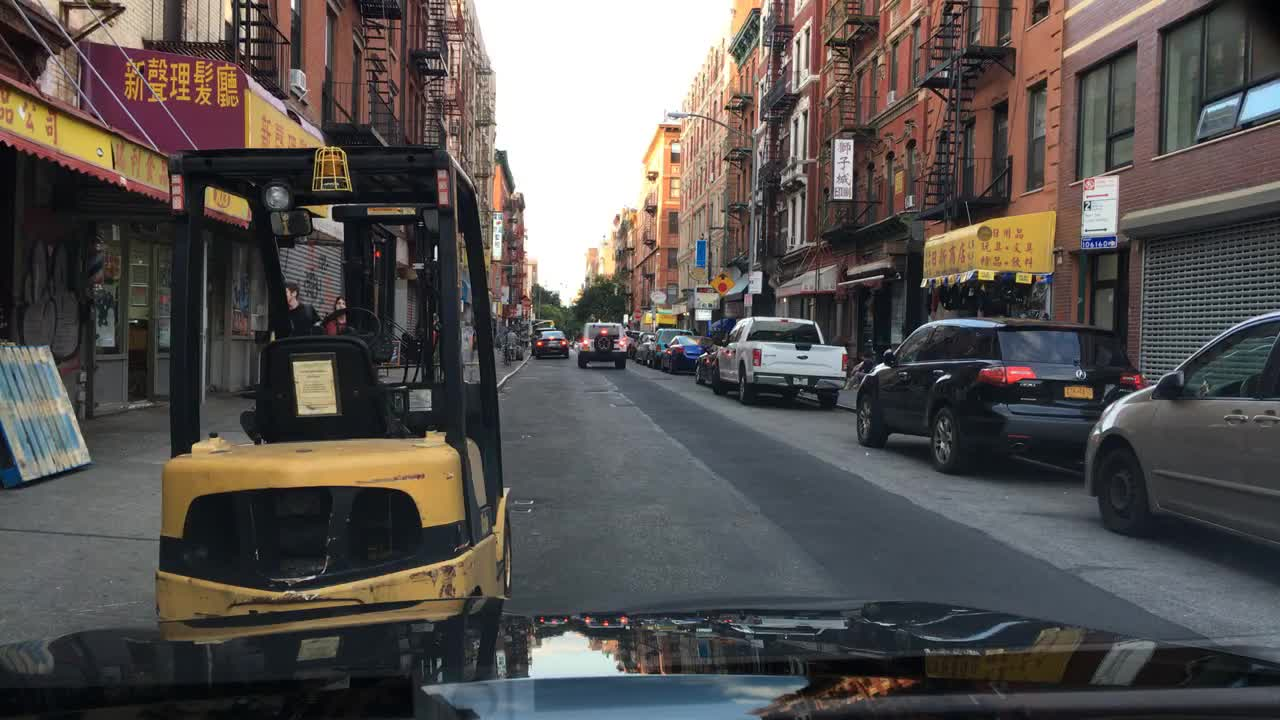bike: (505, 342, 517, 370)
car: (154, 142, 516, 623), (1084, 306, 1279, 549), (855, 315, 1148, 474), (576, 321, 627, 370), (646, 326, 698, 371), (656, 334, 714, 373), (693, 326, 727, 383), (536, 331, 570, 359), (633, 330, 656, 363), (529, 326, 556, 354), (637, 334, 659, 364), (623, 327, 639, 360), (572, 341, 584, 352), (569, 340, 574, 347)
person: (284, 277, 324, 334), (326, 295, 348, 334)
rider: (504, 324, 520, 361)
traffic sign: (1083, 178, 1116, 235), (711, 270, 733, 295), (633, 309, 643, 320)
truck: (712, 315, 849, 407)
